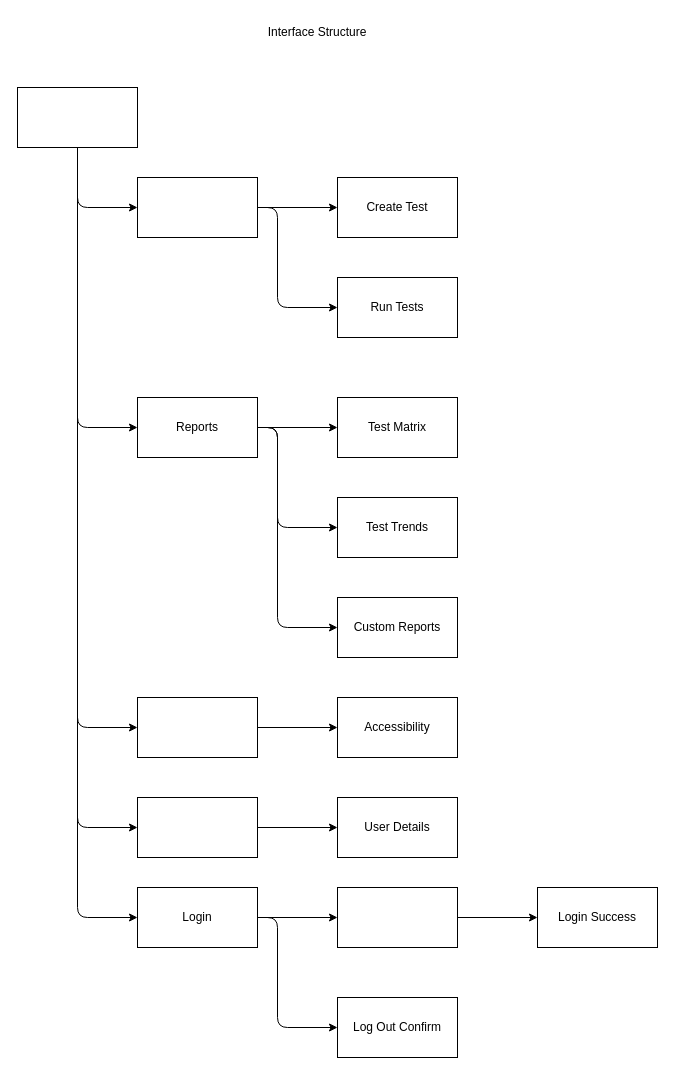
The diagram is 675 pixels wide and 1075 high, and some of its shapes have lost their labels. The centre of each missing label's shape, as x and y in pixels:
Access Page: the point at 397,917
Account: the point at 197,827
Dashboard: the point at 77,117
Settings: the point at 197,727
Test Zone: the point at 197,207
